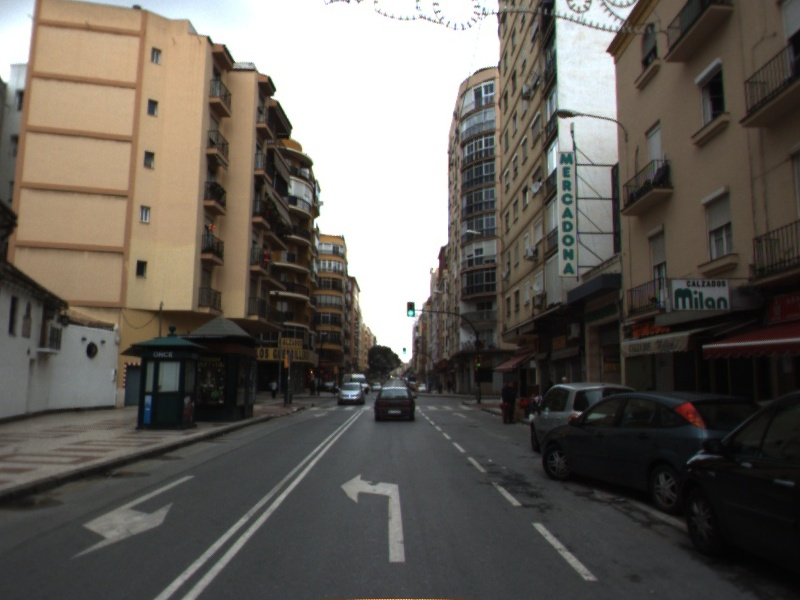LEFT: (339, 472, 406, 564)
